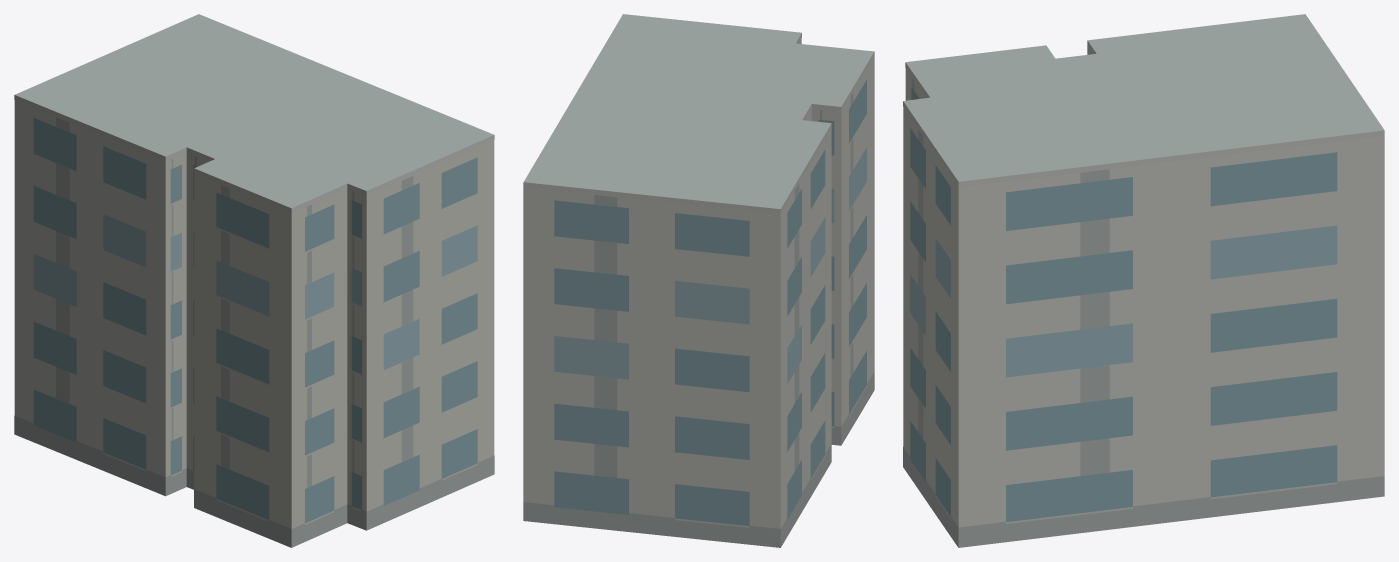
Rendered from survey-upis-33000401.glb.
3 renders of one model, left to right at view 1: azimuth 30°, elevation 25°; view 2: azimuth 150°, elevation 25°; view 3: azimuth 270°, elevation 25°, orthographic. The views are drawn at different scales.
Parts seen in each view (by area): view 1: survey-upis-33000401.tmp; view 2: survey-upis-33000401.tmp; view 3: survey-upis-33000401.tmp.
Part boxes in pixels (x1,y1,x2,y2): survey-upis-33000401.tmp: (14,14,494,547); survey-upis-33000401.tmp: (523,14,874,547); survey-upis-33000401.tmp: (903,14,1384,547).
Bounding box in the file's own units: 15.54 × 15.8 × 18.84.
